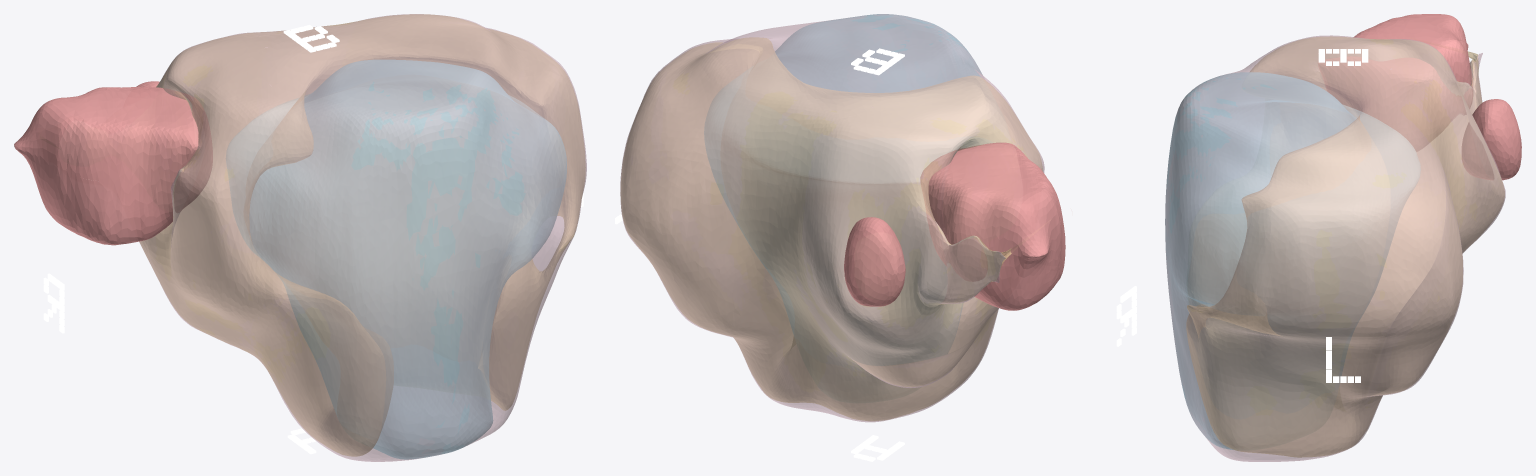
3 views of the same model, side by side, from view 1: azimuth 30°, elevation 25°; view 2: azimuth 150°, elevation 25°; view 3: azimuth 270°, elevation 25° (orthographic). The views are drawn at different scales.
Visible parts, largest first — view 1: prostate_gland, transition_zone, peripheral_zone, lesion_01, pv_ar_marker_B, pv_ar_marker_R; view 2: prostate_gland, peripheral_zone, lesion_01, transition_zone, pv_ar_marker_B, pv_ar_marker_R, pv_ar_marker_A; view 3: prostate_gland, peripheral_zone, transition_zone, lesion_01, pv_ar_marker_B, pv_ar_marker_L.
Boxes of the visible parts, box(x1,y1,x2,y2) form: prostate_gland: box(139, 14, 586, 461); transition_zone: box(226, 60, 566, 459); peripheral_zone: box(139, 14, 585, 456); lesion_01: box(14, 81, 212, 245); pv_ar_marker_B: box(283, 25, 339, 52); pv_ar_marker_R: box(43, 273, 64, 333); prostate_gland: box(620, 14, 1044, 422); peripheral_zone: box(620, 37, 1042, 420); lesion_01: box(844, 142, 1065, 310); transition_zone: box(704, 14, 982, 353); pv_ar_marker_B: box(851, 48, 904, 75); pv_ar_marker_R: box(1116, 286, 1136, 346); pv_ar_marker_A: box(851, 435, 904, 461); prostate_gland: box(1165, 35, 1505, 461); peripheral_zone: box(1186, 36, 1504, 457); transition_zone: box(1165, 72, 1420, 449); lesion_01: box(1318, 14, 1521, 180); pv_ar_marker_B: box(1318, 49, 1368, 65); pv_ar_marker_L: box(1326, 337, 1360, 382).
Bounding box in the file's own units: 0.0553 × 0.0409 × 0.0355.
